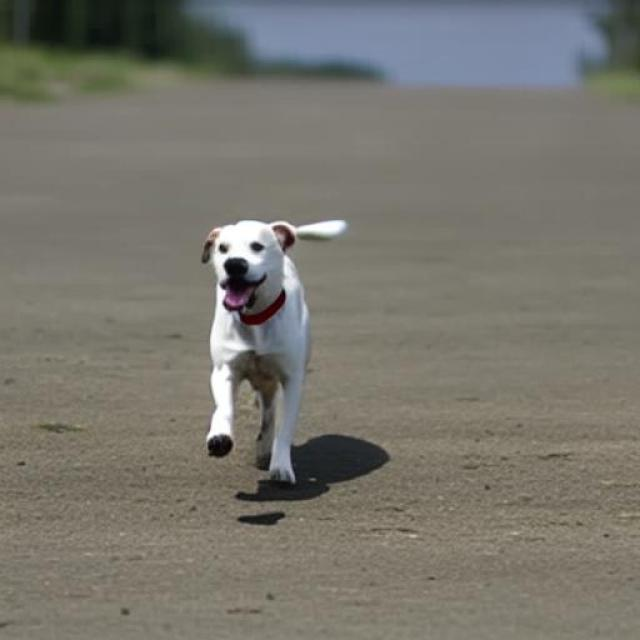Dog: (200, 221, 349, 487)
